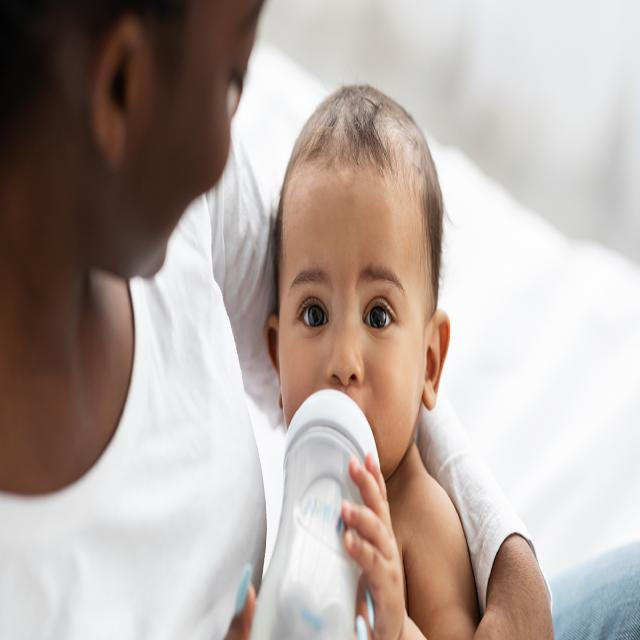adult: (0, 1, 552, 640)
child: (266, 88, 474, 640)
